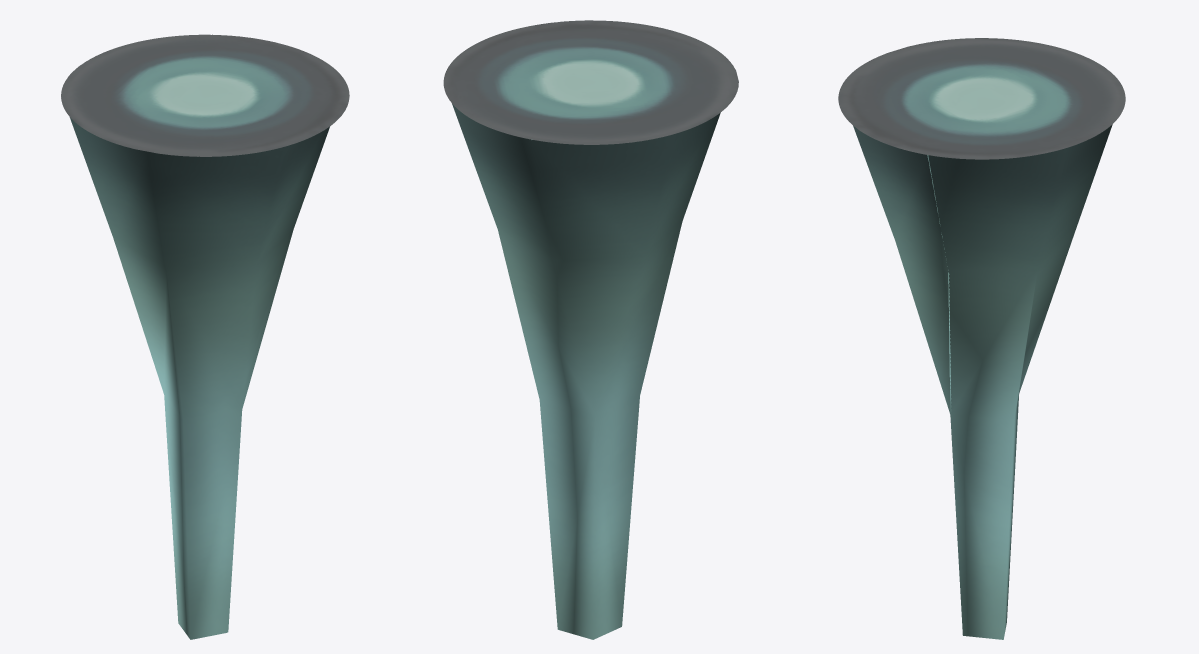
Rendered from tubule_03.fbx.
The picture shows the model from 3 angles, left to right: view 1: azimuth 30°, elevation 25°; view 2: azimuth 150°, elevation 25°; view 3: azimuth 270°, elevation 25°; orthographic projection. The views are drawn at different scales.
Parts seen in each view (by area): view 1: sav_tubule_03_LOD0; view 2: sav_tubule_03_LOD0; view 3: sav_tubule_03_LOD0.
Boxes of the visible parts, x1,y1,x2,y2 form: sav_tubule_03_LOD0: [61, 34, 349, 639]; sav_tubule_03_LOD0: [443, 20, 738, 639]; sav_tubule_03_LOD0: [838, 38, 1125, 639].
Size of the model in its own units: 24.21 by 35.05 by 24.19.
